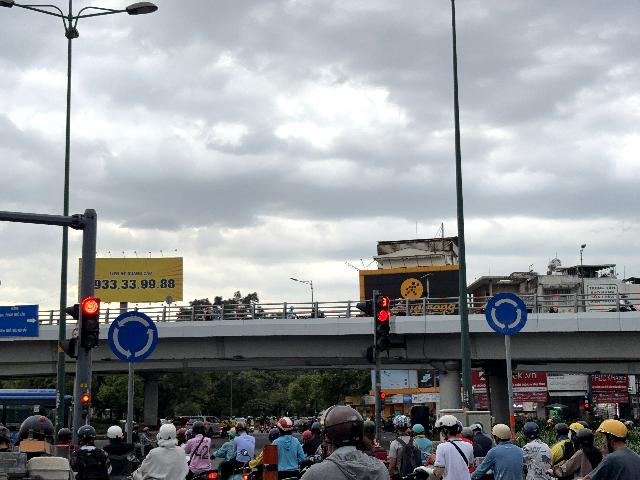noi-giao-nhau-chay-theo-vong-xuyen: (108, 310, 158, 362), (484, 292, 529, 335)
